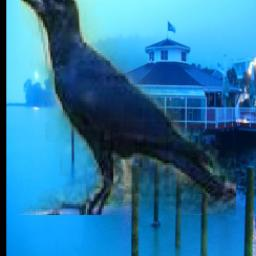Crow: (20, 0, 236, 215)
